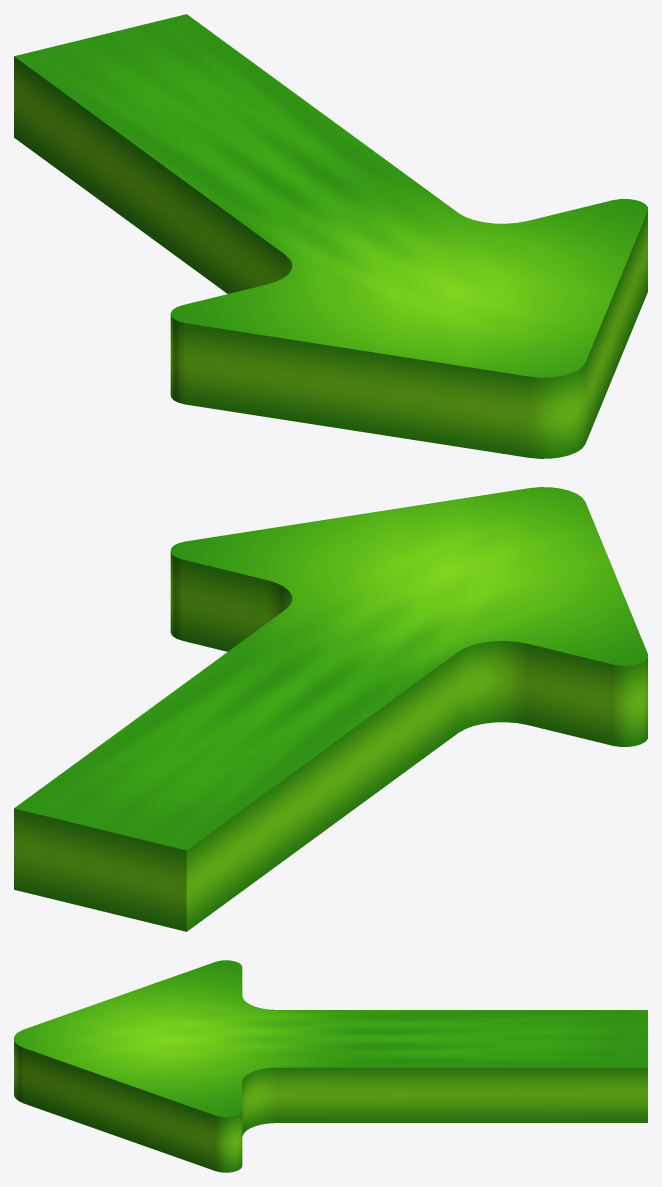
File: Arrow.fbx
3 views of the same model, one above another, from view 1: azimuth 30°, elevation 25°; view 2: azimuth 150°, elevation 25°; view 3: azimuth 270°, elevation 25° (orthographic). The views are drawn at different scales.
Visible parts, largest first — view 1: polySurface5; view 2: polySurface5; view 3: polySurface5.
Part boxes in pixels (x1,y1,x2,y2): polySurface5: [14, 14, 647, 458]; polySurface5: [14, 487, 647, 931]; polySurface5: [14, 960, 647, 1172].
Size of the model in its own units: 77.03 by 12.7 by 131.
1 material, 1 textured.
